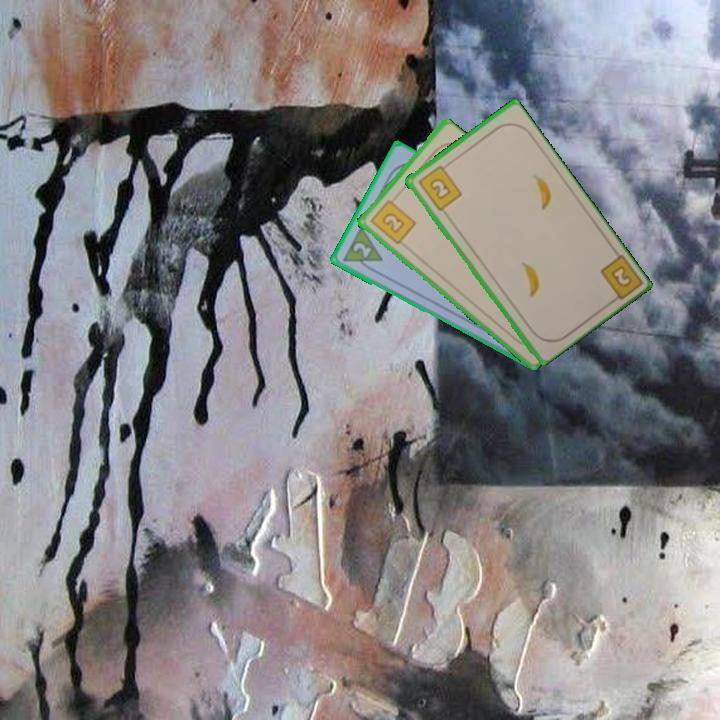2b: (366, 193, 418, 247), (414, 160, 464, 214), (596, 250, 643, 307)
2p: (339, 223, 385, 276)
